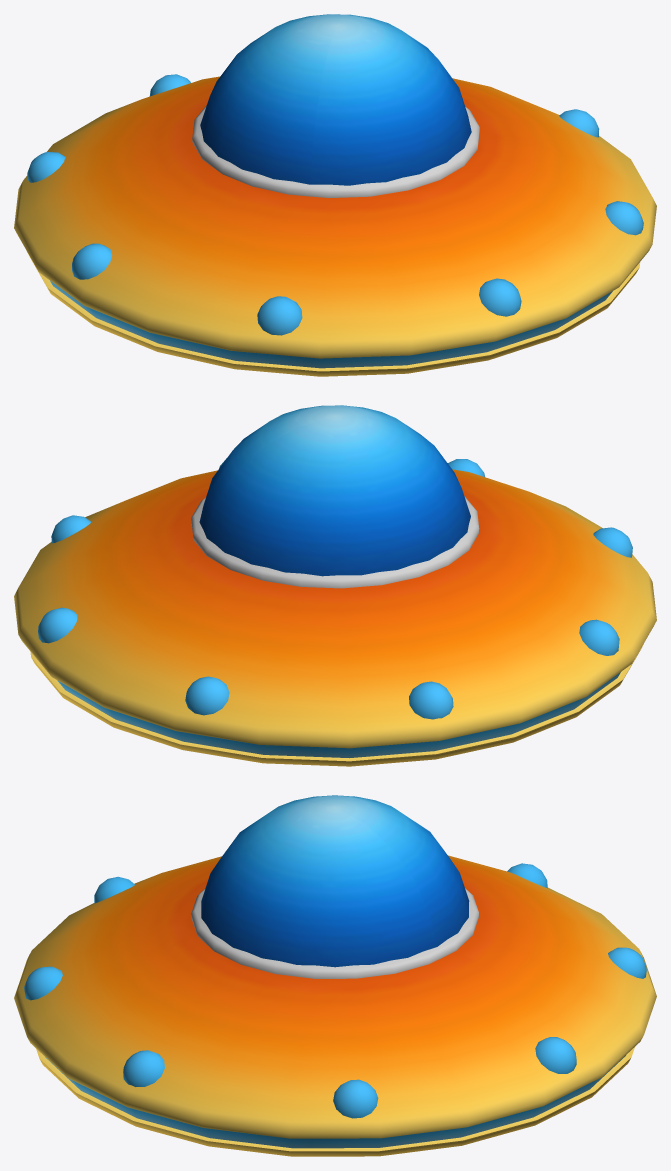
3 renders of one model, top to bottom at view 1: azimuth 30°, elevation 25°; view 2: azimuth 150°, elevation 25°; view 3: azimuth 270°, elevation 25°, orthographic.
Visible parts, largest first — view 1: Nave; view 2: Nave; view 3: Nave.
Boxes of the visible parts, x1,y1,x2,y2 form: Nave: [14, 14, 656, 376]; Nave: [14, 405, 656, 766]; Nave: [14, 795, 656, 1156].
Size of the model in its own units: 3389 by 1550 by 3423.
Materials: 1 (1 with a texture image).
